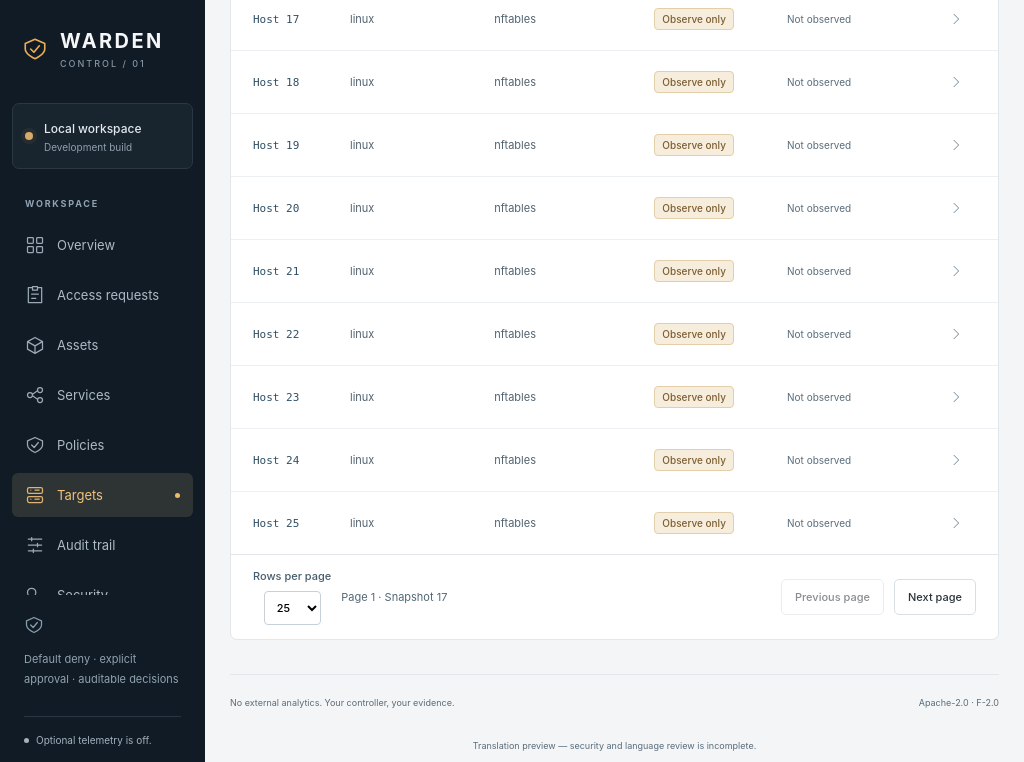
it: page size changes and expired cursor retry restart at the first page
(page scrolled)
Select "50" in the dropdown labelled "Rows per page". click: (292, 608)
box: [264,591,321,625]
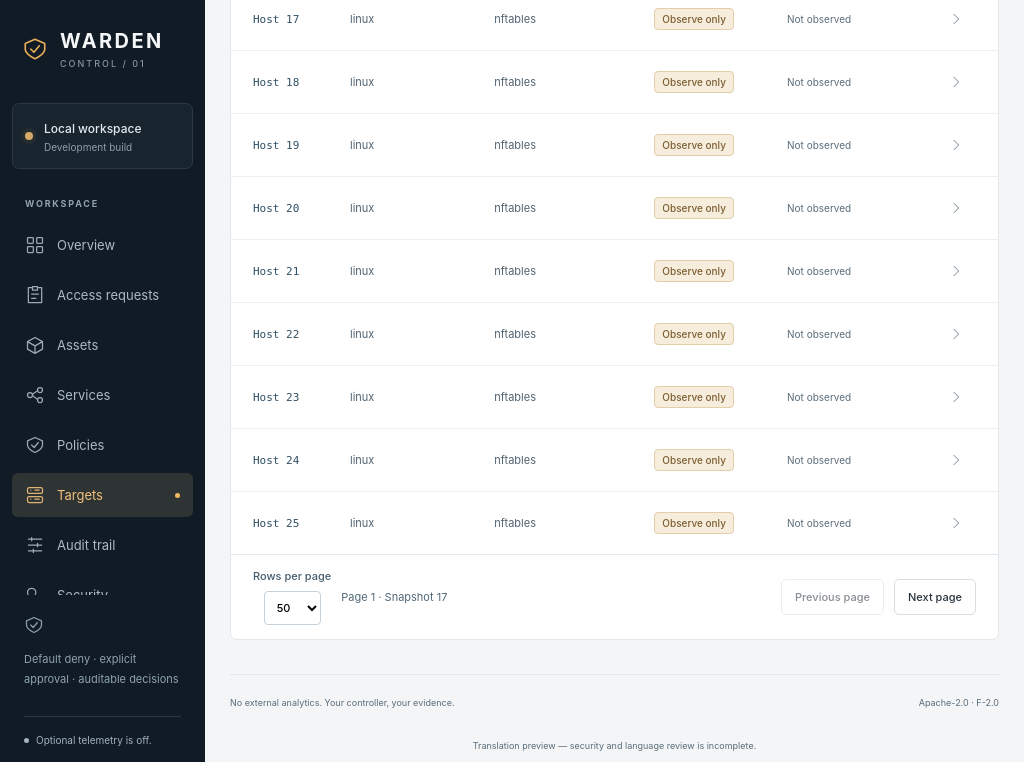
Click the button "Next page". click: (935, 597)
box: [894,579,976,615]
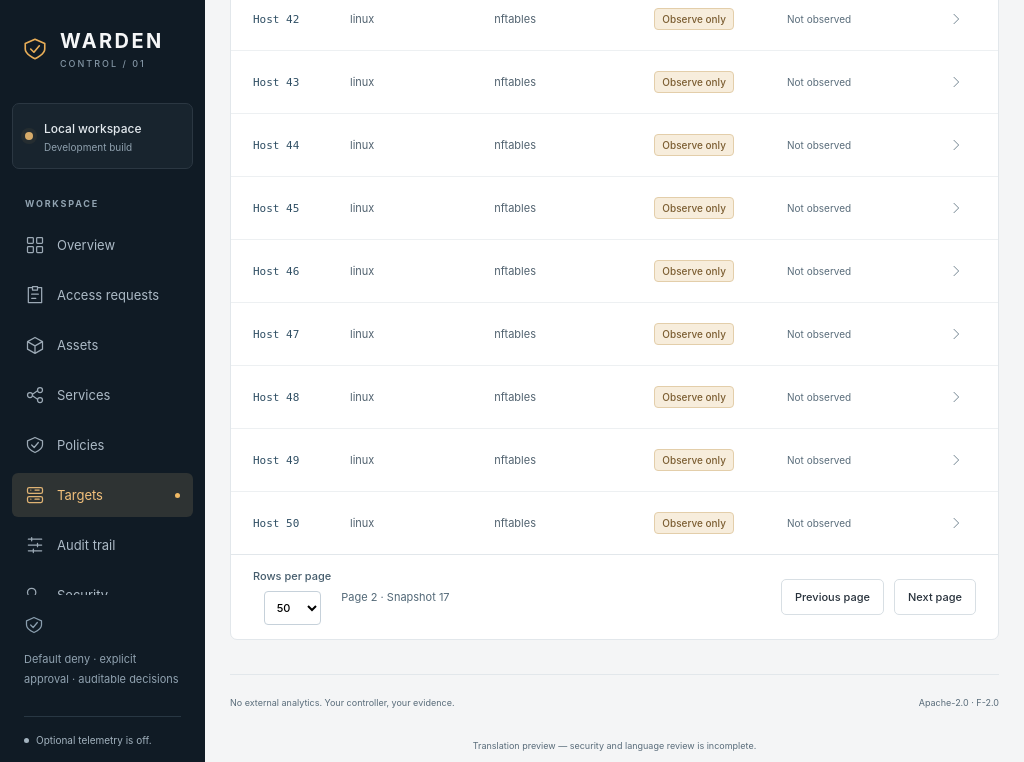
Click the button "Next page". click: (935, 597)
box: [894,579,976,615]
(page scrolled)
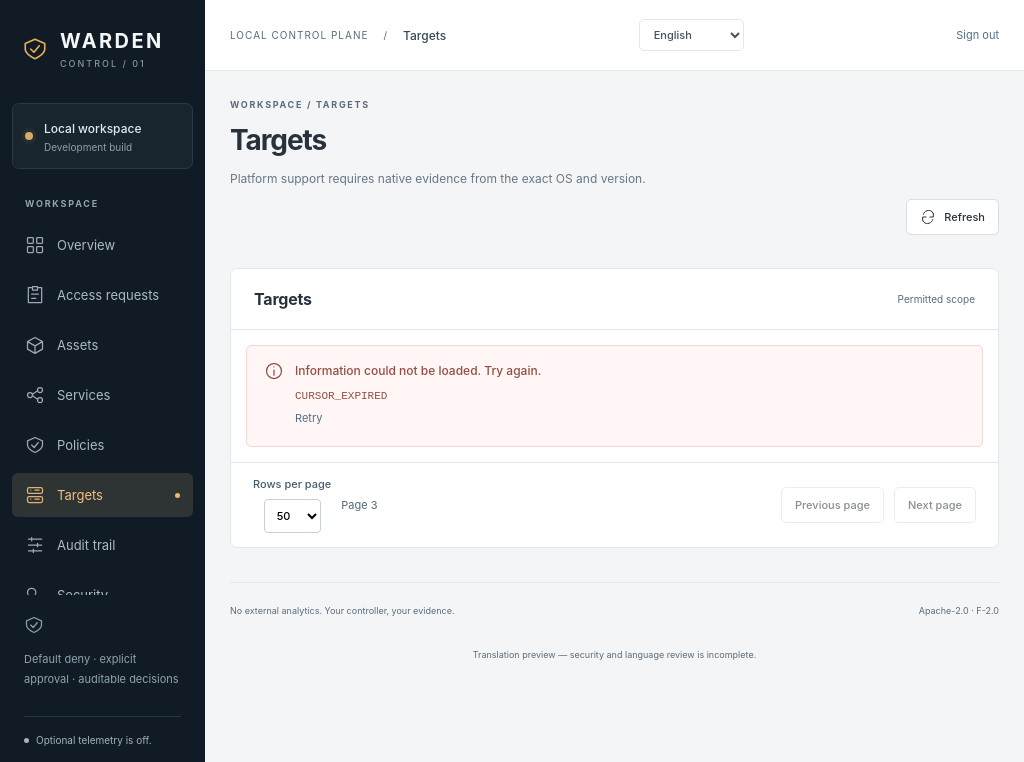
expect the text "CURSOR_EXPIRED" is shown: met, box [295,390,387,402]
Click the button "Retry". click: (309, 418)
box: [295,405,322,431]
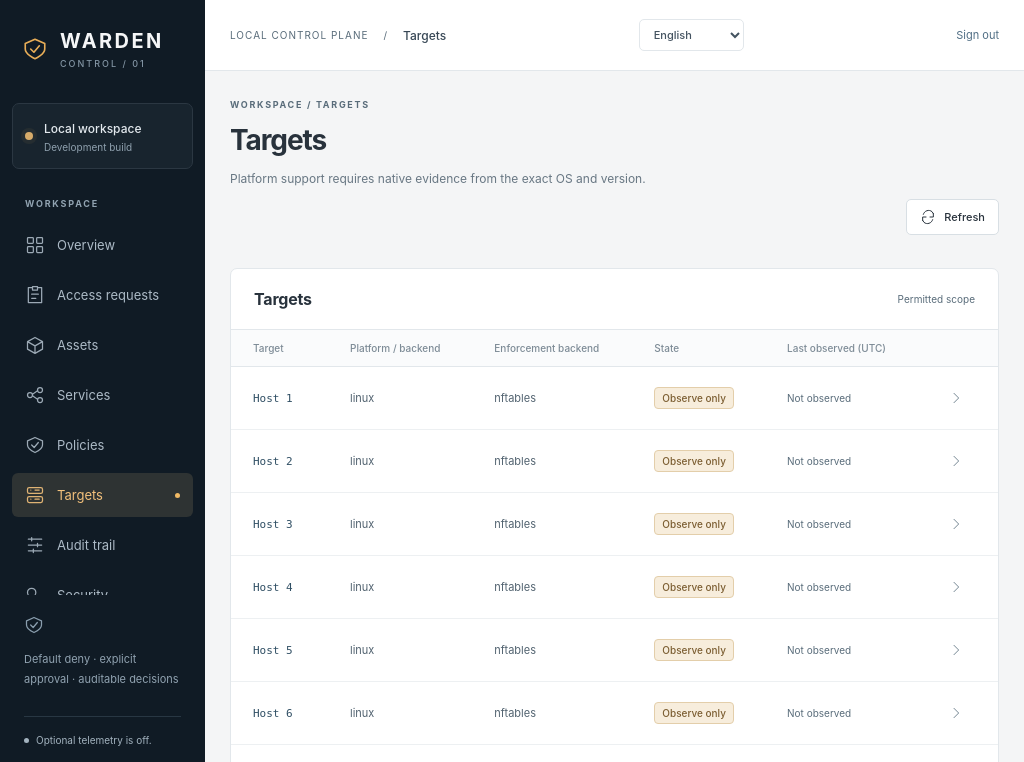
expect the button "Host 1" is shown: met, box [253,392,293,405]
